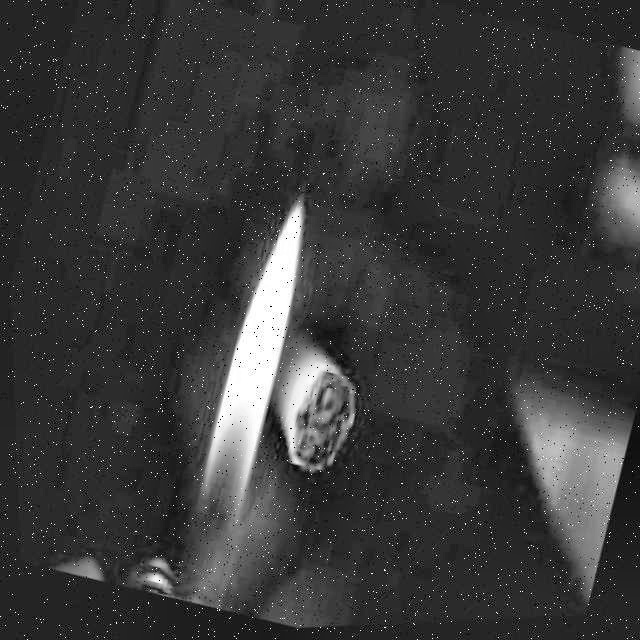Smoke: (156, 197, 326, 612)
